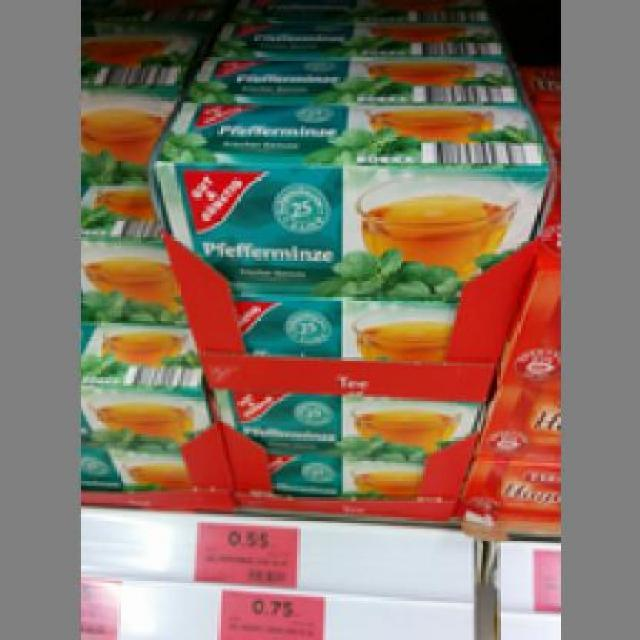Tea: (148, 97, 546, 294), (212, 386, 474, 506), (217, 282, 454, 358)
